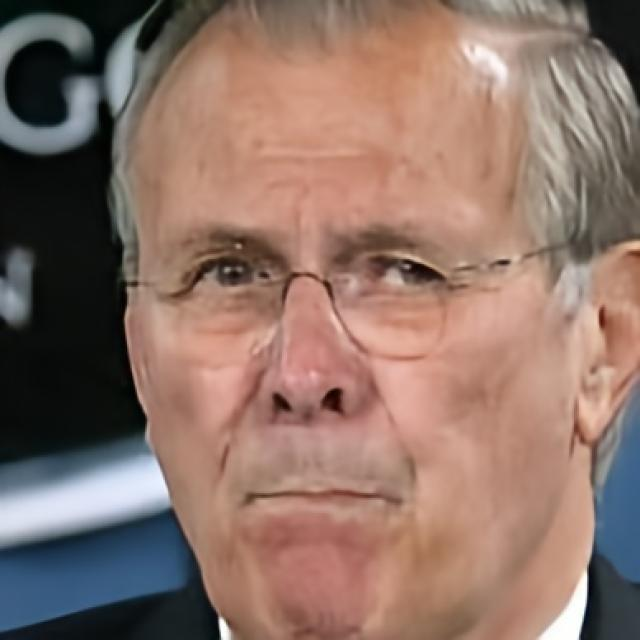anger: (132, 23, 579, 622)
